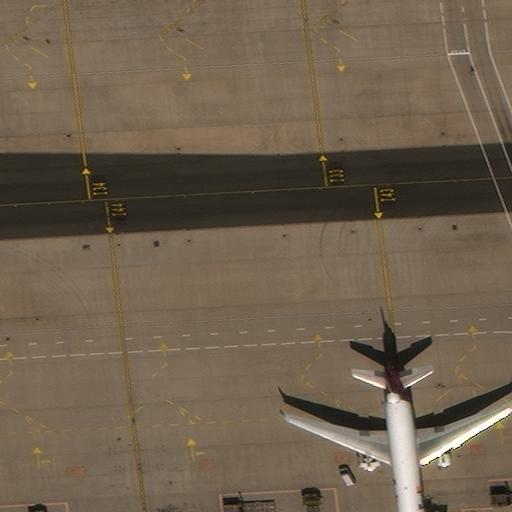Large Civil Transport: (282, 359, 511, 511)
